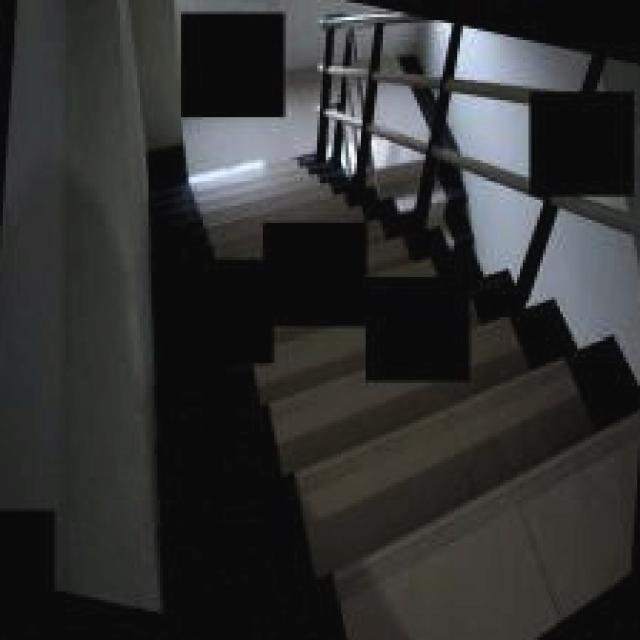downstair: (255, 401, 640, 640)
